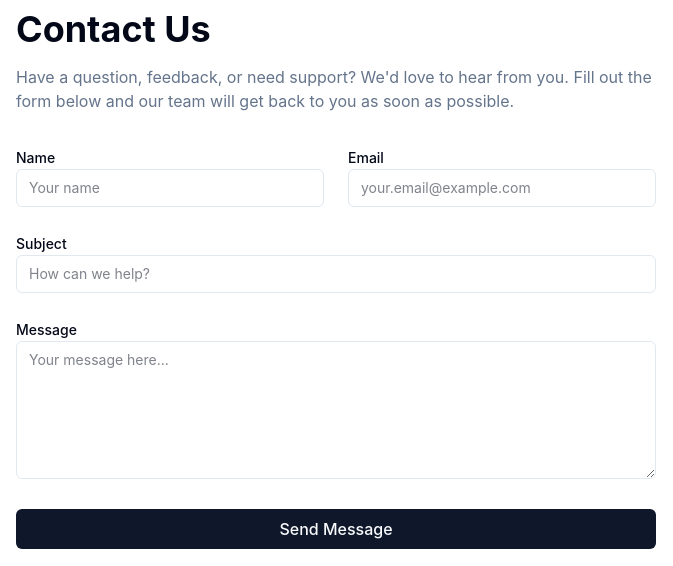
Scenario: Contact Component › submits successfully and shows success state
Type "John Doe" into the field labelled "Name" at coordinates (170, 188), box x1=16 y1=169 x2=324 y2=207
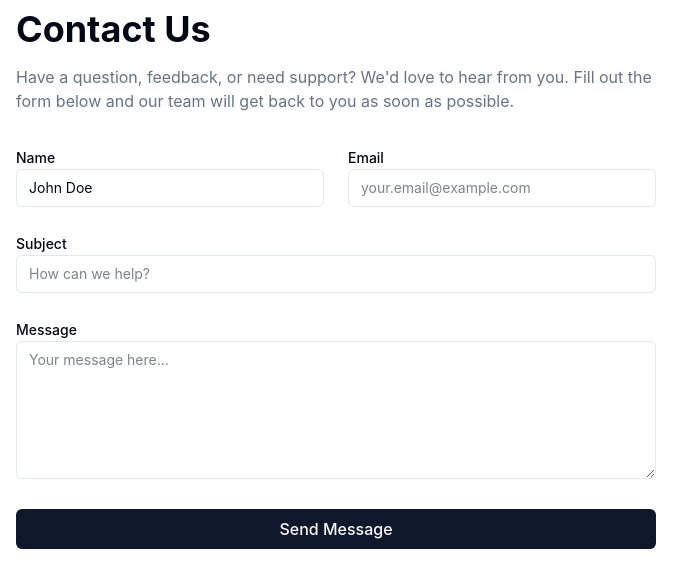
Type "john@example.com" into the field labelled "Email" at coordinates (502, 188), box x1=348 y1=169 x2=656 y2=207
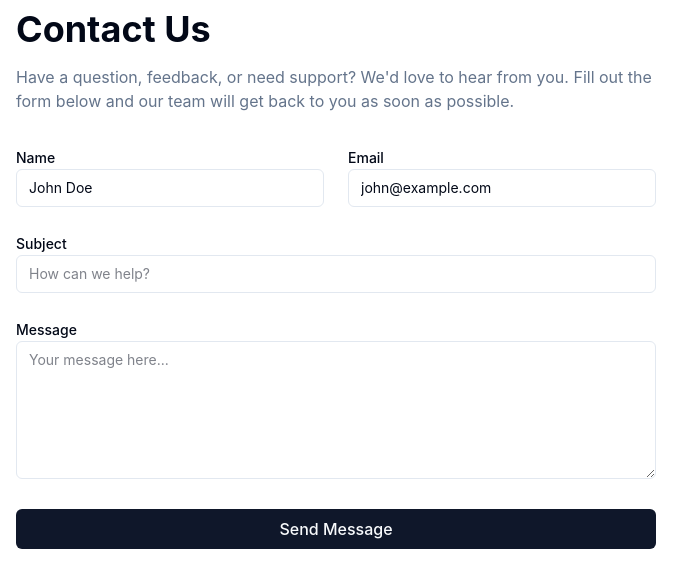
Type "Test Subject" into the field labelled "Subject" at coordinates (336, 274), box x1=16 y1=255 x2=656 y2=293
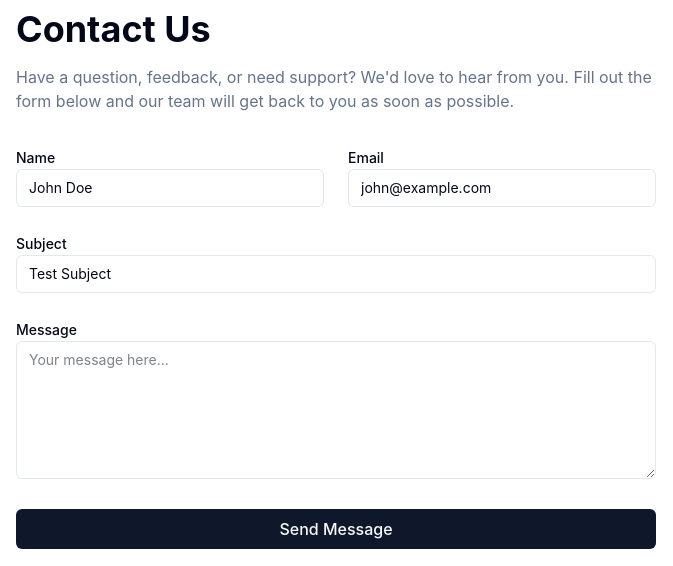
Type "This is a test message." into the text box labelled "Message" at coordinates (336, 410), box x1=16 y1=341 x2=656 y2=479
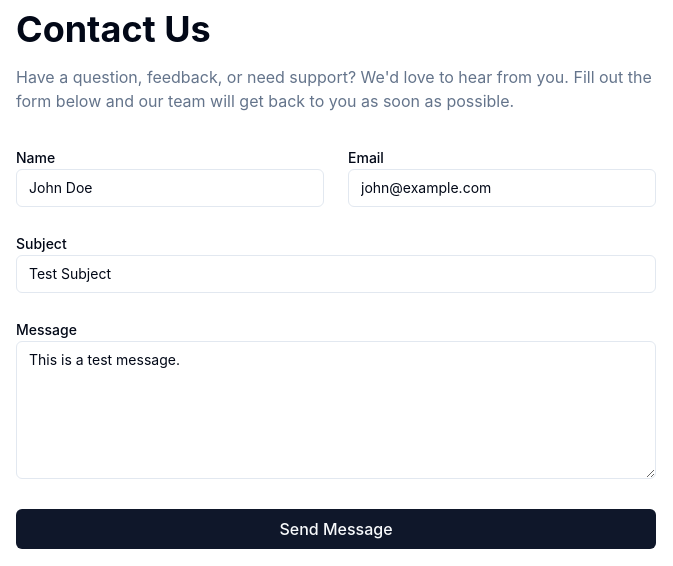
Click the button "Send Message" at coordinates (336, 529), box x1=16 y1=509 x2=656 y2=549
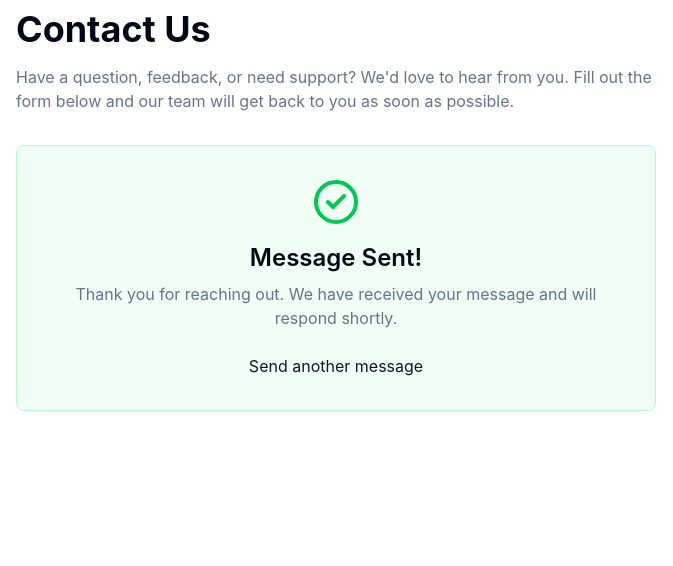
Now the heading "Message Sent!" is shown, box x1=250 y1=243 x2=422 y2=272
